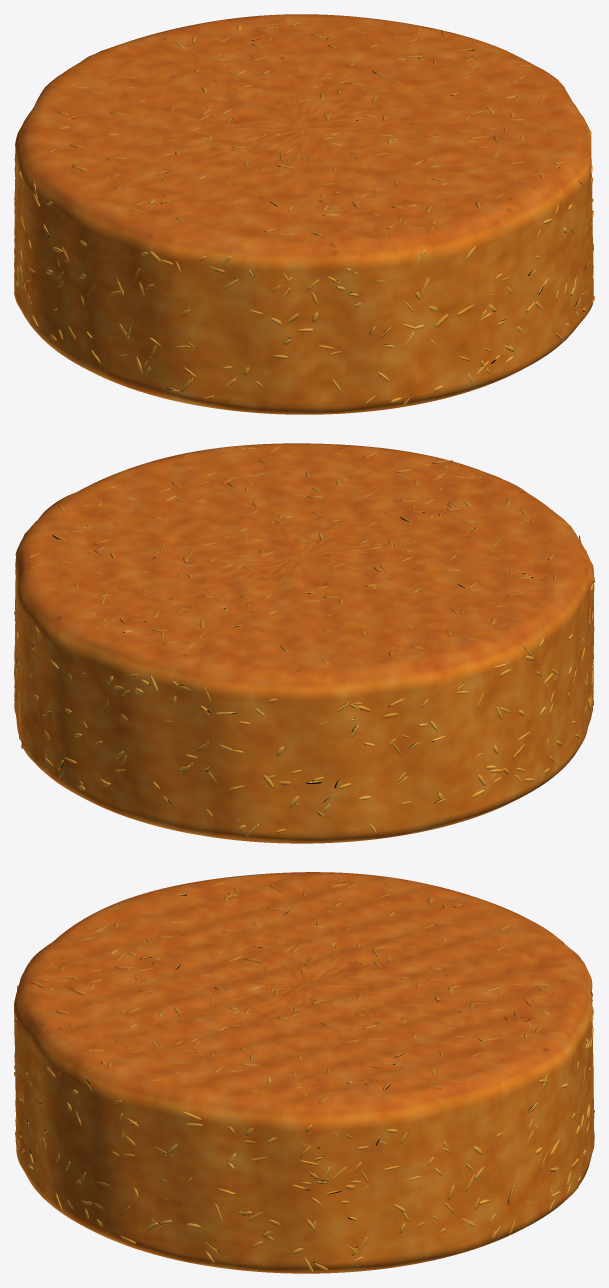
Rendered from dulce_cocada.gltf.
3 renders of one model, top to bottom at view 1: azimuth 30°, elevation 25°; view 2: azimuth 150°, elevation 25°; view 3: azimuth 270°, elevation 25°, orthographic.
Parts seen in each view (by area): view 1: cocada_circular, fibras_coco; view 2: cocada_circular, fibras_coco; view 3: cocada_circular, fibras_coco.
Part boxes in pixels (left/top/right/bottom): cocada_circular: left=14, top=14, right=593, bottom=414; fibras_coco: left=14, top=23, right=594, bottom=405; cocada_circular: left=14, top=443, right=594, bottom=843; fibras_coco: left=14, top=445, right=594, bottom=835; cocada_circular: left=14, top=872, right=594, bottom=1273; fibras_coco: left=14, top=879, right=594, bottom=1273.
Bounding box in the file's own units: 0.0868 × 0.0293 × 0.0865.
2 materials, 2 textured.
